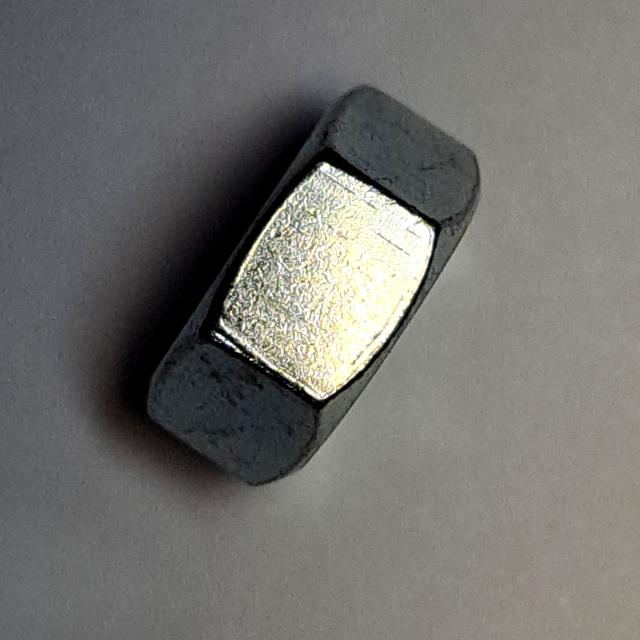Side_Excellent: (130, 64, 510, 511)
